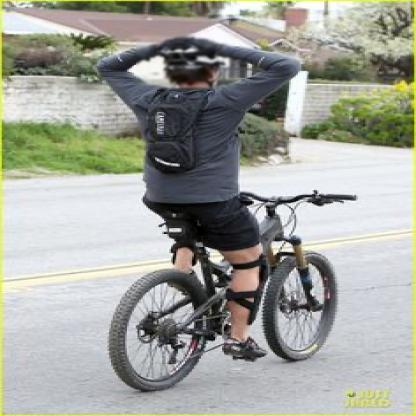Helmet: (147, 26, 233, 88)
